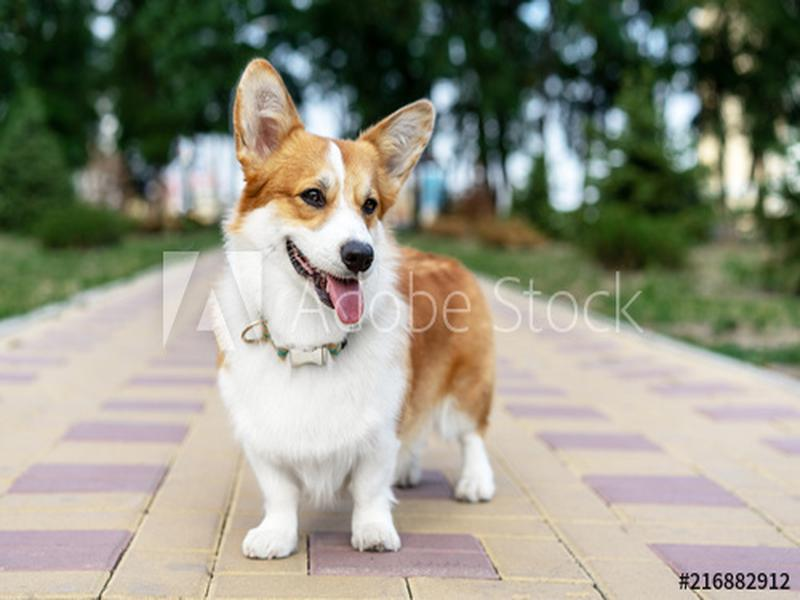dog_stand: (209, 52, 500, 567)
